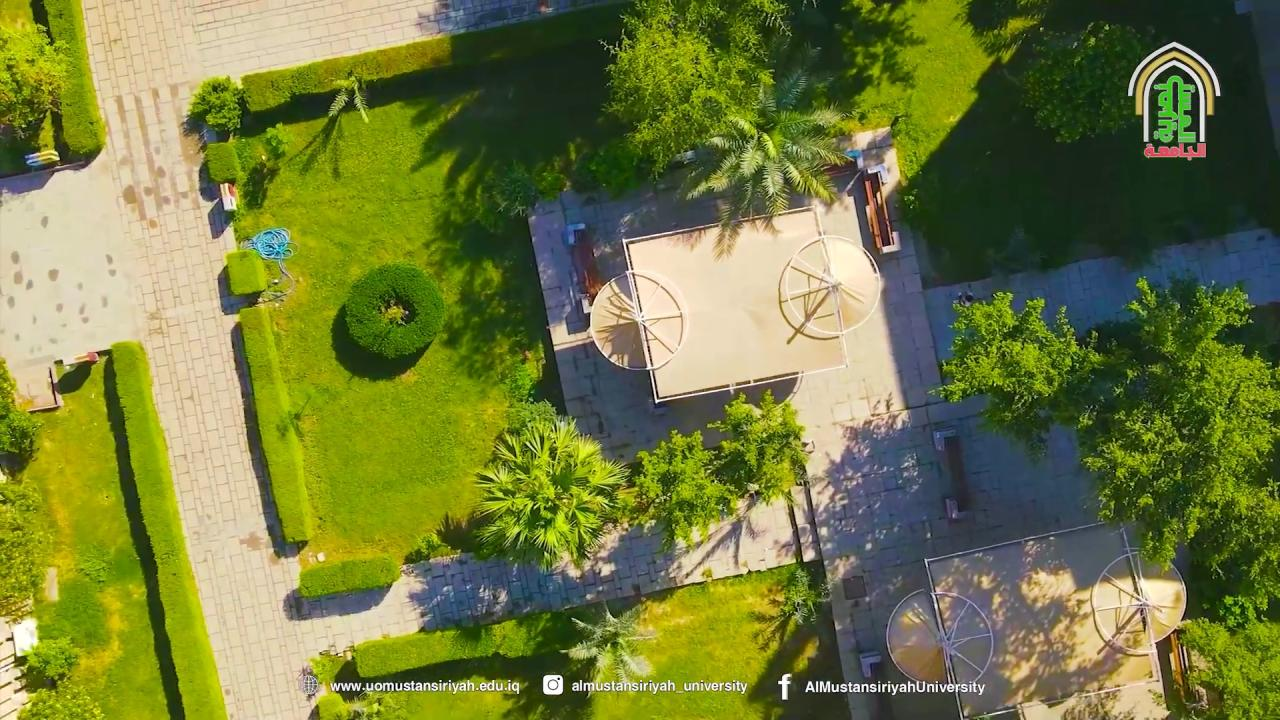tree: (928, 272, 1280, 720), (1076, 271, 1278, 621), (596, 0, 865, 260), (705, 386, 832, 650), (916, 280, 1095, 454), (466, 404, 631, 574), (1018, 19, 1155, 144), (614, 427, 737, 554), (705, 386, 814, 509), (1174, 613, 1278, 719), (342, 259, 446, 360), (558, 598, 659, 692), (0, 14, 73, 141), (289, 72, 373, 180), (0, 477, 52, 625), (15, 634, 103, 718), (749, 563, 831, 651), (951, 0, 1053, 64), (480, 157, 570, 218), (0, 356, 44, 479), (184, 73, 245, 142), (17, 635, 79, 691), (16, 681, 103, 719), (202, 140, 241, 210), (326, 72, 371, 124), (73, 541, 115, 588)
